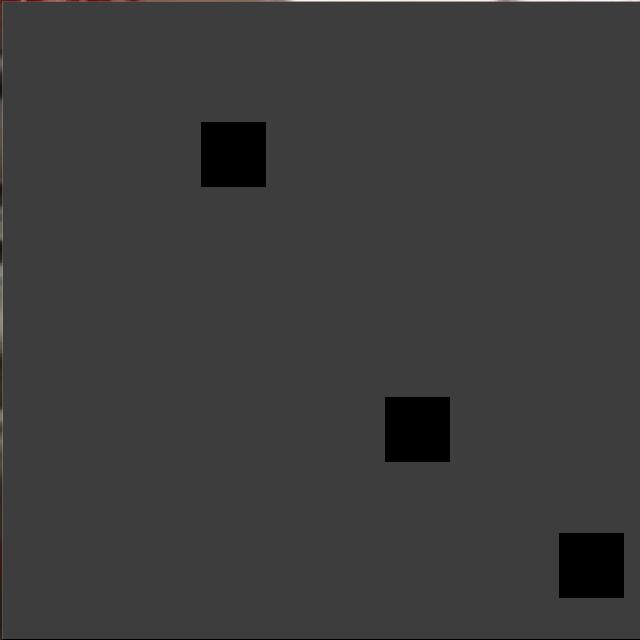fire: (2, 1, 640, 639)
